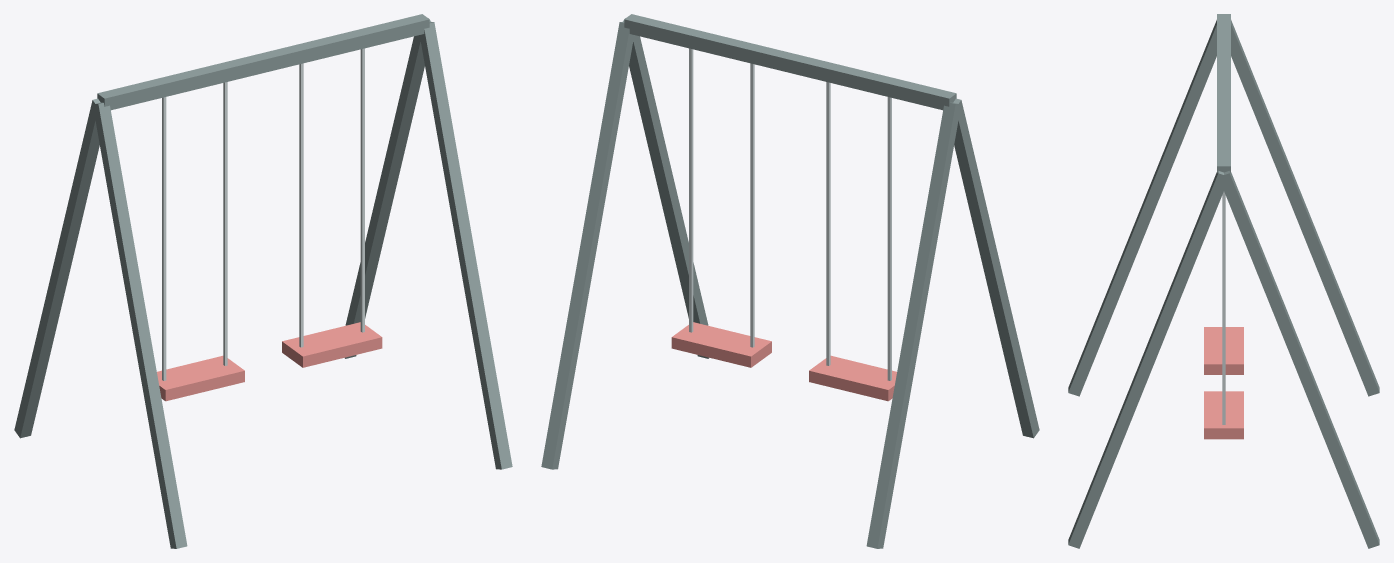
The model's file is swingSet.glb.
3 views of the same model, side by side, from view 1: azimuth 30°, elevation 25°; view 2: azimuth 150°, elevation 25°; view 3: azimuth 270°, elevation 25° (orthographic). The views are drawn at different scales.
Visible parts, largest first — view 1: swingSet; view 2: swingSet; view 3: swingSet.
Boxes of the visible parts, x1,y1,x2,y2 form: swingSet: (14, 14, 512, 548); swingSet: (541, 14, 1039, 548); swingSet: (1068, 14, 1379, 548).
Bounding box in the file's own units: 0.93 × 1.05 × 0.7782.
